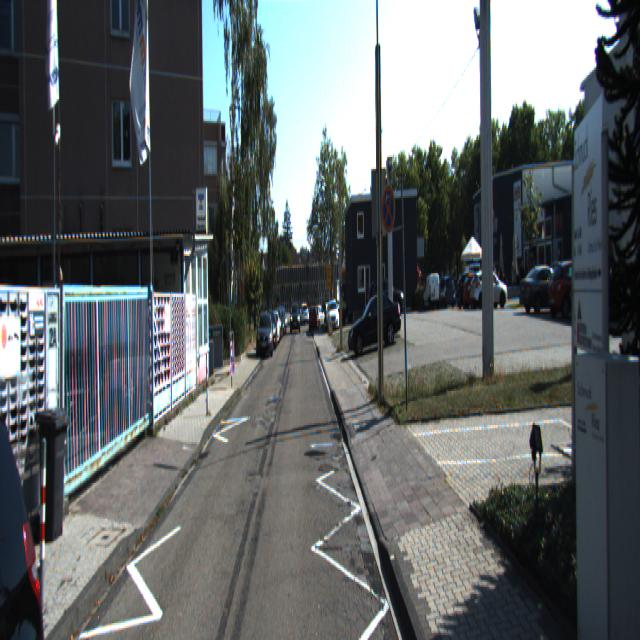Car: (0, 333, 68, 638), (346, 285, 404, 355), (546, 255, 608, 320), (519, 257, 577, 313), (469, 268, 509, 311), (255, 308, 275, 358), (423, 271, 441, 309)
